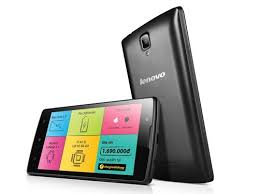lenovo: (22, 92, 160, 187)
